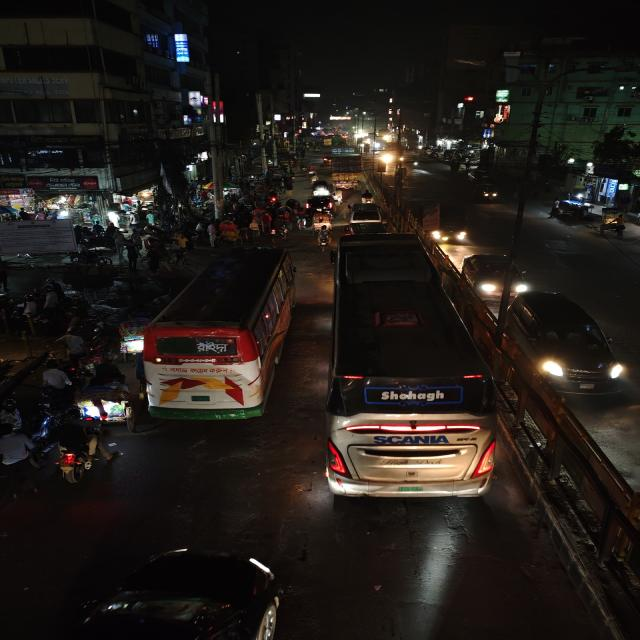bus: (325, 232, 504, 502), (139, 246, 296, 424)
car: (49, 544, 293, 640), (506, 288, 628, 397), (461, 251, 530, 299), (345, 201, 388, 225), (302, 195, 336, 213)
cng: (472, 179, 503, 205), (309, 179, 334, 197)
motorcycle: (48, 424, 102, 484), (269, 226, 293, 246), (314, 226, 331, 248), (358, 189, 377, 205)
pedestrian: (0, 426, 43, 492), (40, 363, 72, 395), (62, 330, 90, 362), (170, 233, 192, 267), (548, 198, 562, 222)
rickshaw: (74, 367, 135, 429), (218, 220, 247, 248)
truck: (407, 198, 470, 245), (329, 158, 363, 190)
